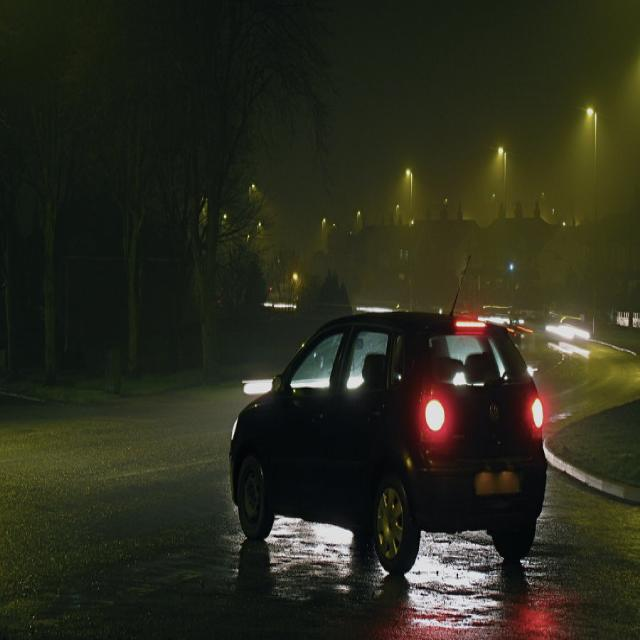car: (230, 297, 551, 606), (554, 288, 595, 364)
